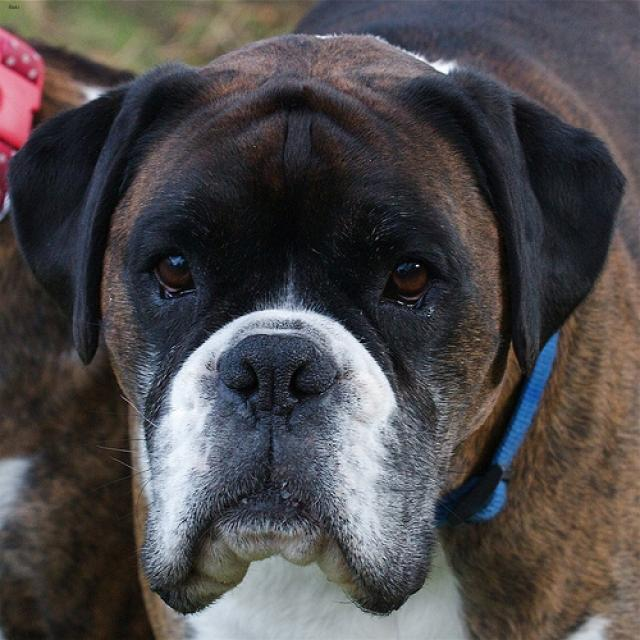dog-boxer: (1, 1, 637, 637)
